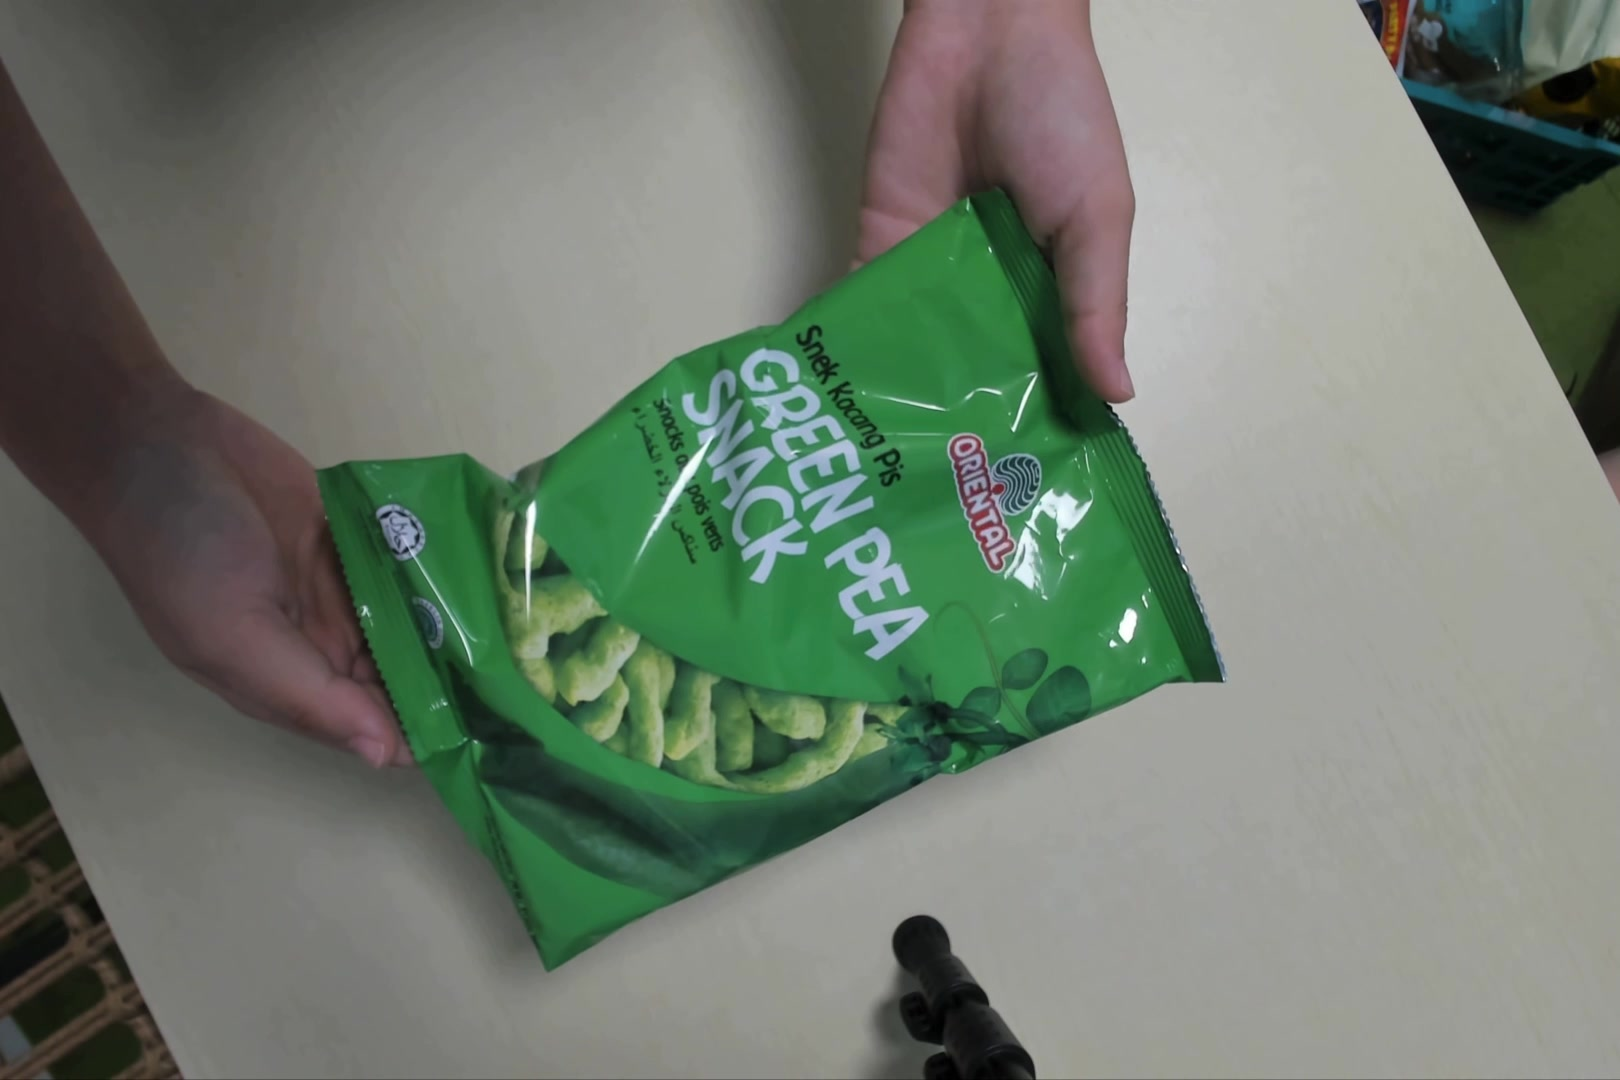Nuts_100-199g_Halal_NonHealthy: (331, 209, 1214, 972)
